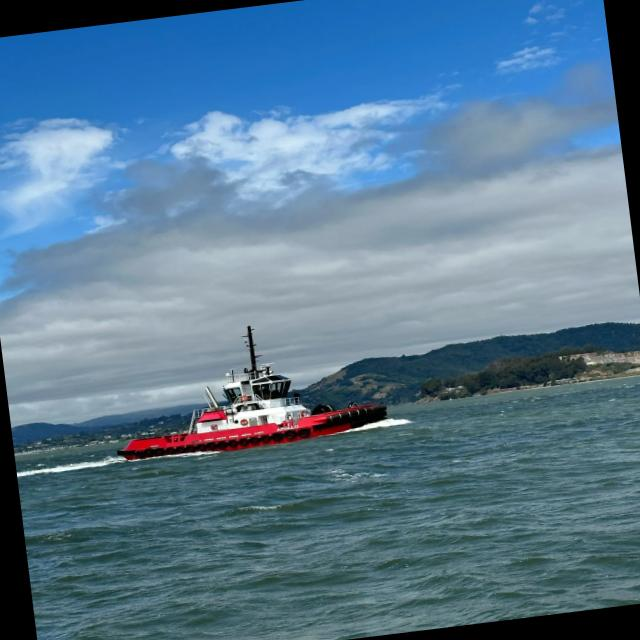Tug: (117, 325, 386, 460)
